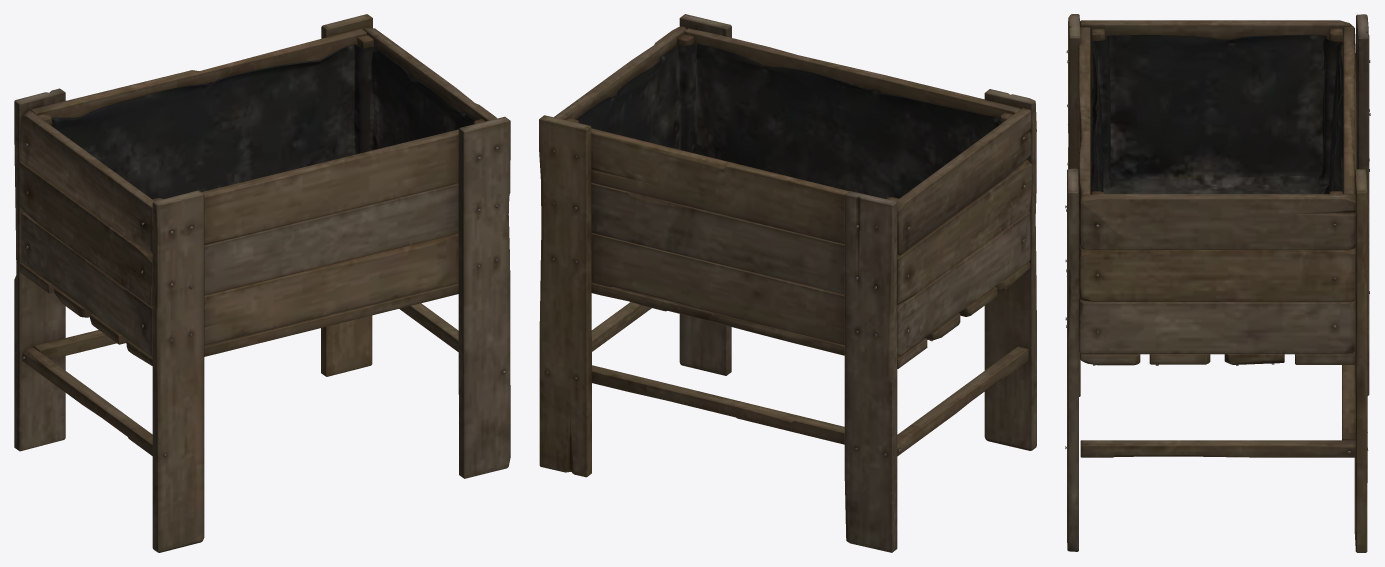
File: planter_box_03.glb
The picture shows the model from 3 angles, left to right: view 1: azimuth 30°, elevation 25°; view 2: azimuth 150°, elevation 25°; view 3: azimuth 270°, elevation 25°; orthographic projection. The views are drawn at different scales.
Parts seen in each view (by area): view 1: planter_box_03; view 2: planter_box_03; view 3: planter_box_03.
Boxes of the visible parts, left/top/right/bottom form: planter_box_03: left=14, top=14, right=510, bottom=552; planter_box_03: left=539, top=14, right=1036, bottom=552; planter_box_03: left=1065, top=14, right=1370, bottom=552.
Size of the model in its own units: 0.9143 by 0.8552 by 0.6556.
Materials: 1 (1 with a texture image).
